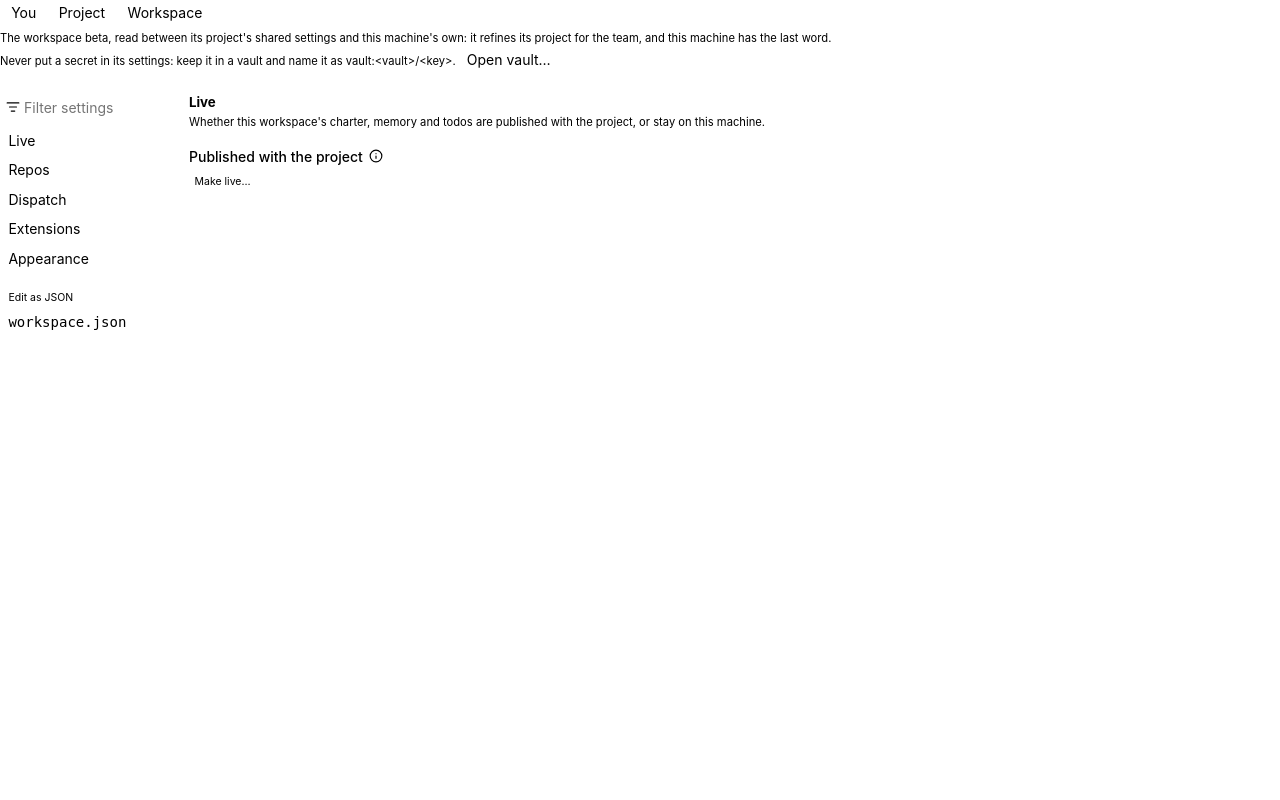
Scenario: Settings at a workspace's level › offers the same switch, through the same confirmation
Click the button "Make live…" at (223, 182), box [189, 174, 256, 190]
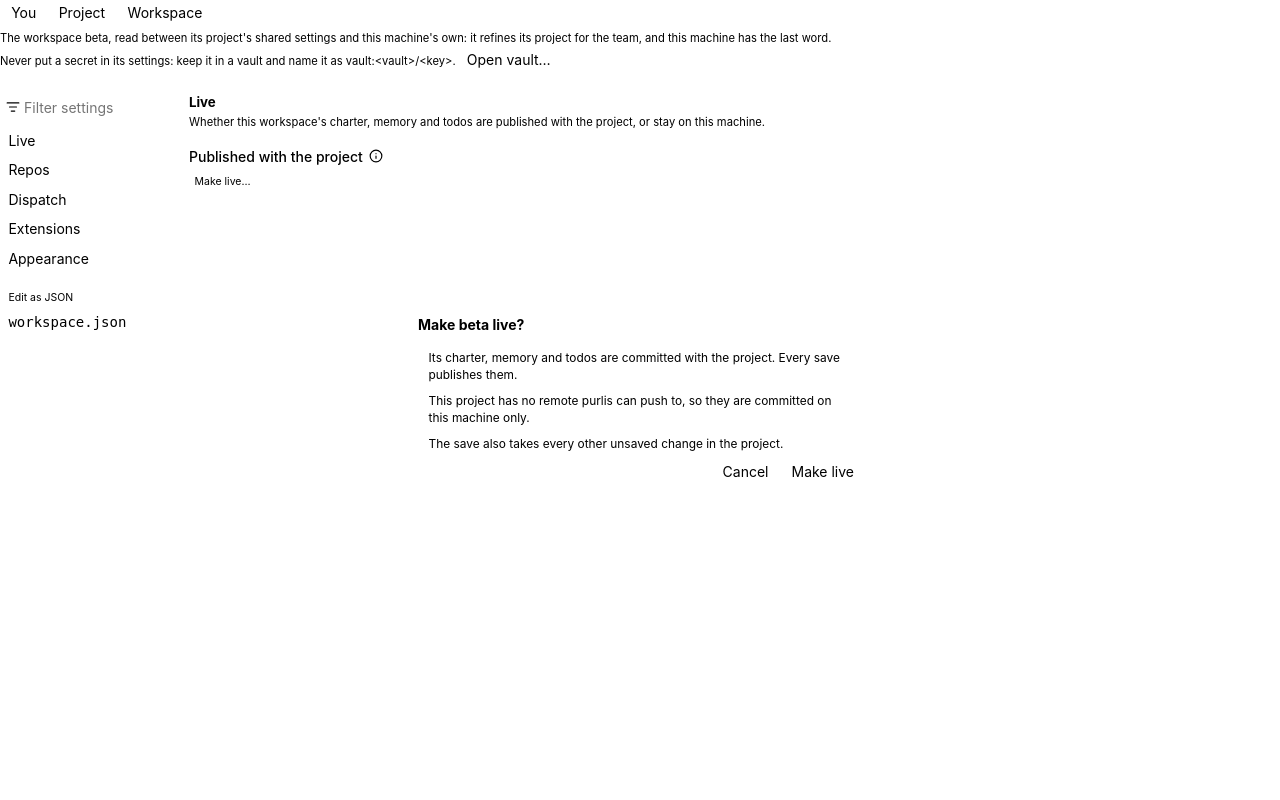
Result: the dialog "Make beta live?" is shown at [402, 299, 878, 501]
